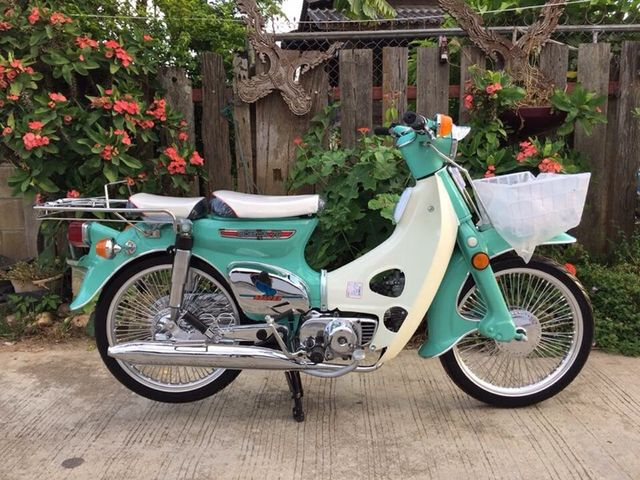motorcycle: (33, 119, 602, 418)
